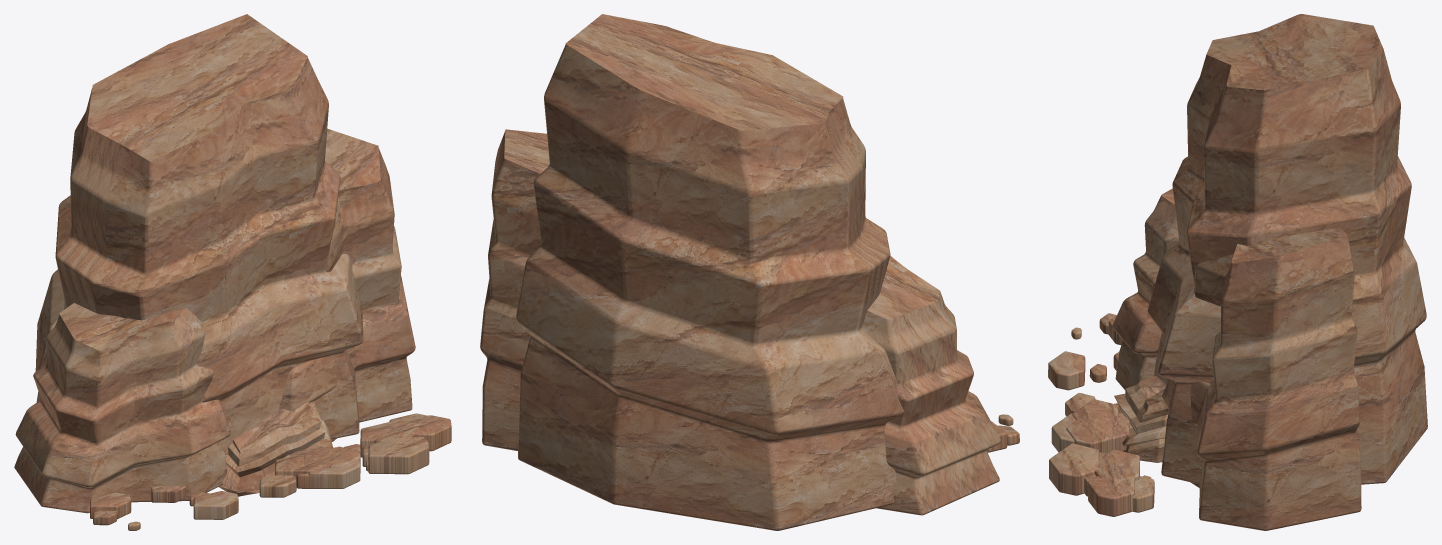
Rendered from cliff_00.glb.
3 renders of one model, left to right at view 1: azimuth 30°, elevation 25°; view 2: azimuth 150°, elevation 25°; view 3: azimuth 270°, elevation 25°, orthographic. The views are drawn at different scales.
Visible parts, largest first — view 1: Canyon buttress 00; view 2: Canyon buttress 00; view 3: Canyon buttress 00.
Part boxes in pixels (x1,y1,x2,y2): Canyon buttress 00: [14, 14, 451, 530]; Canyon buttress 00: [480, 14, 1019, 530]; Canyon buttress 00: [1048, 14, 1427, 530].
Size of the model in its own units: 10.8 by 9.57 by 7.99.
Materials: 1 (1 with a texture image).
